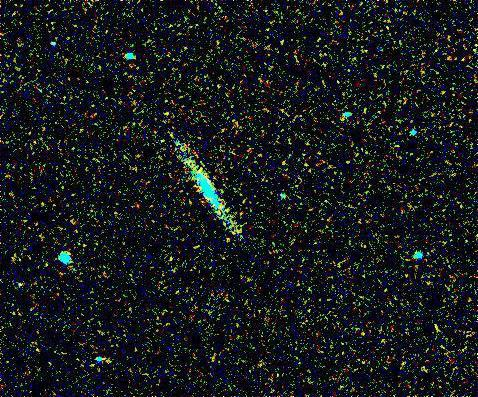star: (418, 312, 448, 342)
